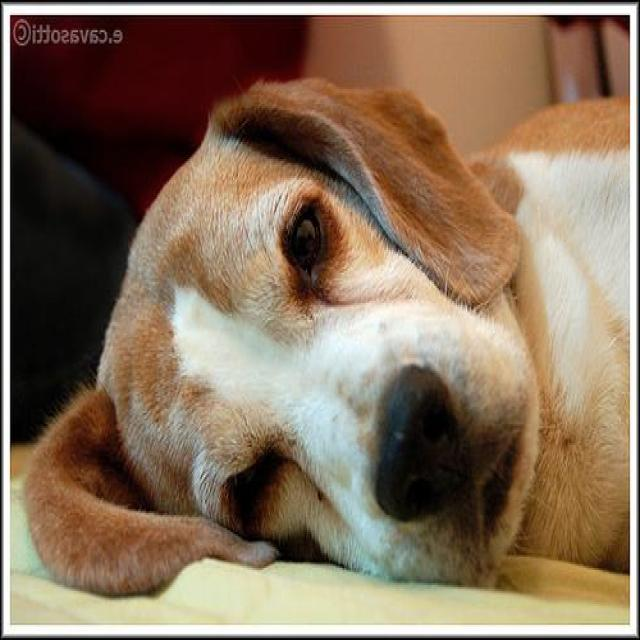beagle: (21, 81, 628, 596)
